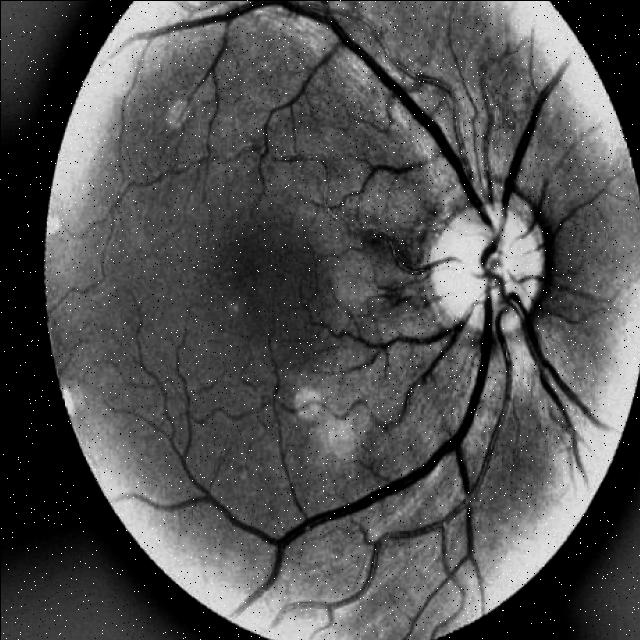Macula: (213, 248, 264, 309)
Nerves: (142, 0, 607, 616)
Optic Disk: (431, 198, 544, 337)
